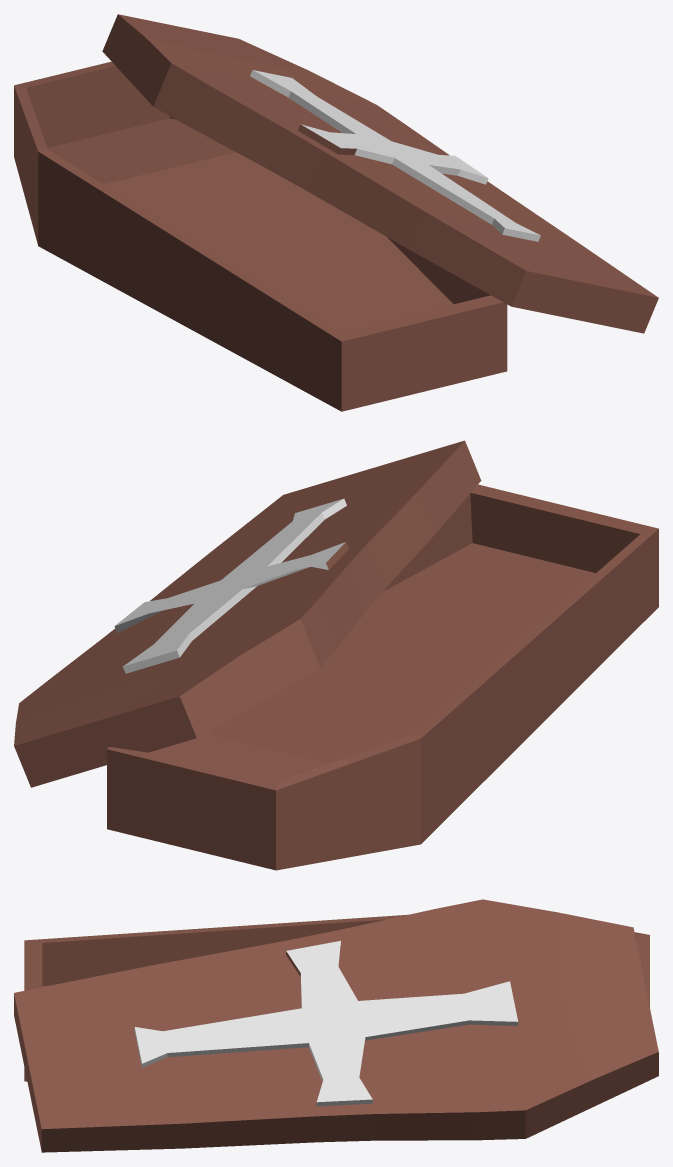
The model's file is coffin.fbx.
The picture shows the model from 3 angles, top to bottom: view 1: azimuth 30°, elevation 25°; view 2: azimuth 150°, elevation 25°; view 3: azimuth 270°, elevation 25°; orthographic projection. The views are drawn at different scales.
Visible parts, largest first — view 1: coffin; view 2: coffin; view 3: coffin.
Part boxes in pixels (x1,y1,x2,y2): coffin: (14, 14, 658, 411); coffin: (14, 440, 658, 870); coffin: (14, 899, 658, 1152).
Bounding box in the file's own units: 1.68 × 0.7029 × 2.7.
